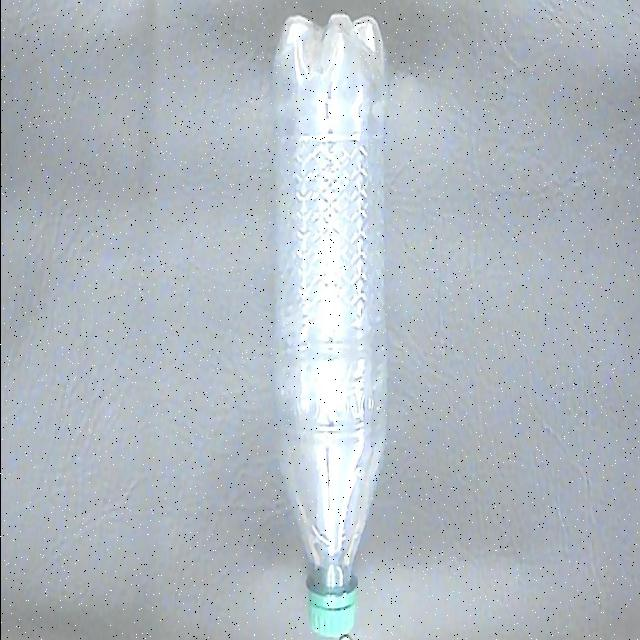plastic: (265, 8, 394, 636)
